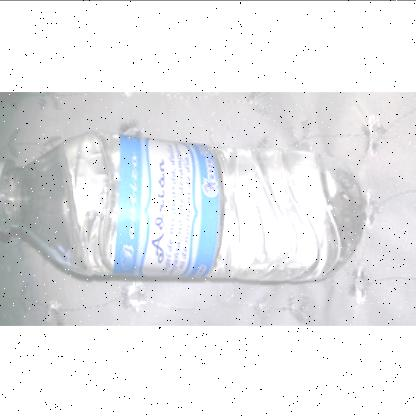Plastic Bottle: (0, 130, 364, 284)
